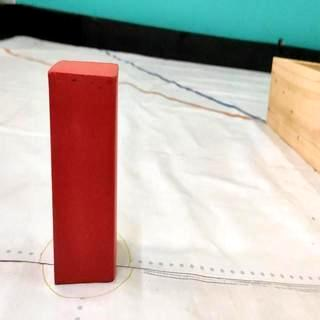redbox: (50, 59, 119, 285)
